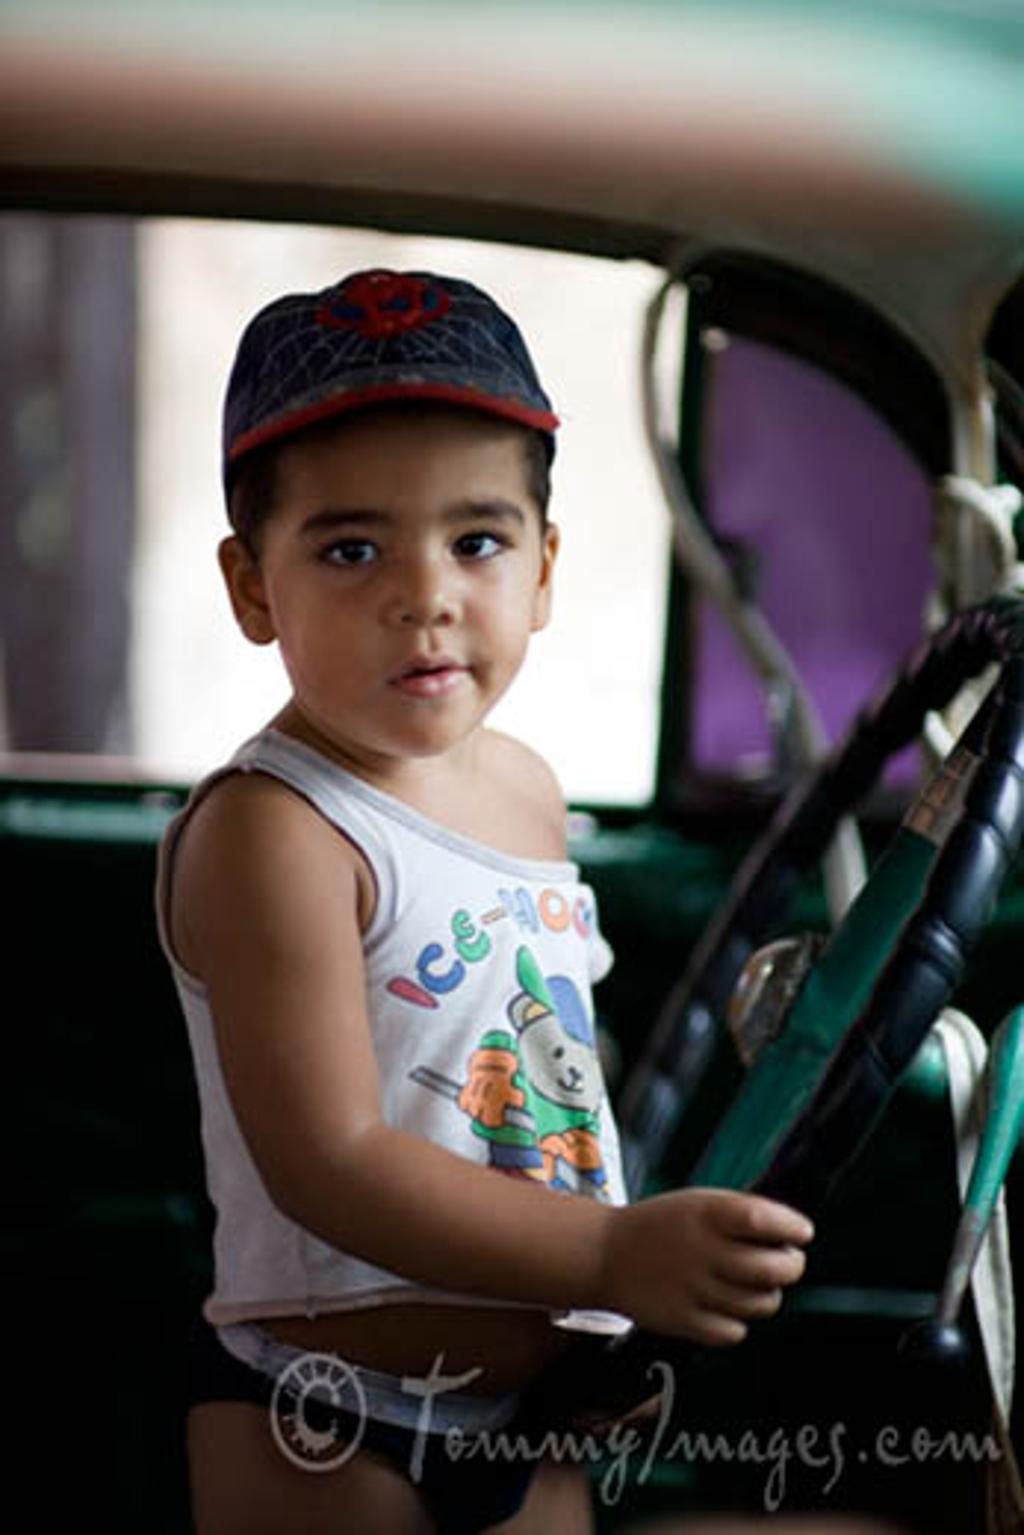face: (273, 387, 545, 752)
